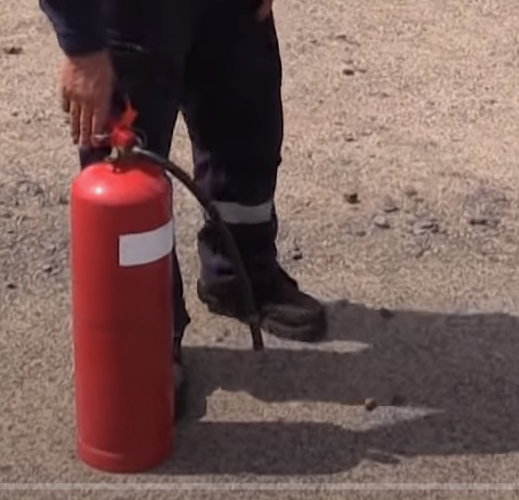fire_extinguisher: (68, 98, 202, 474)
